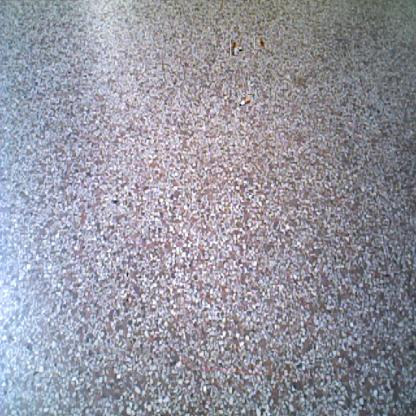dirty: (238, 94, 252, 106), (229, 42, 241, 55), (254, 38, 266, 49)
